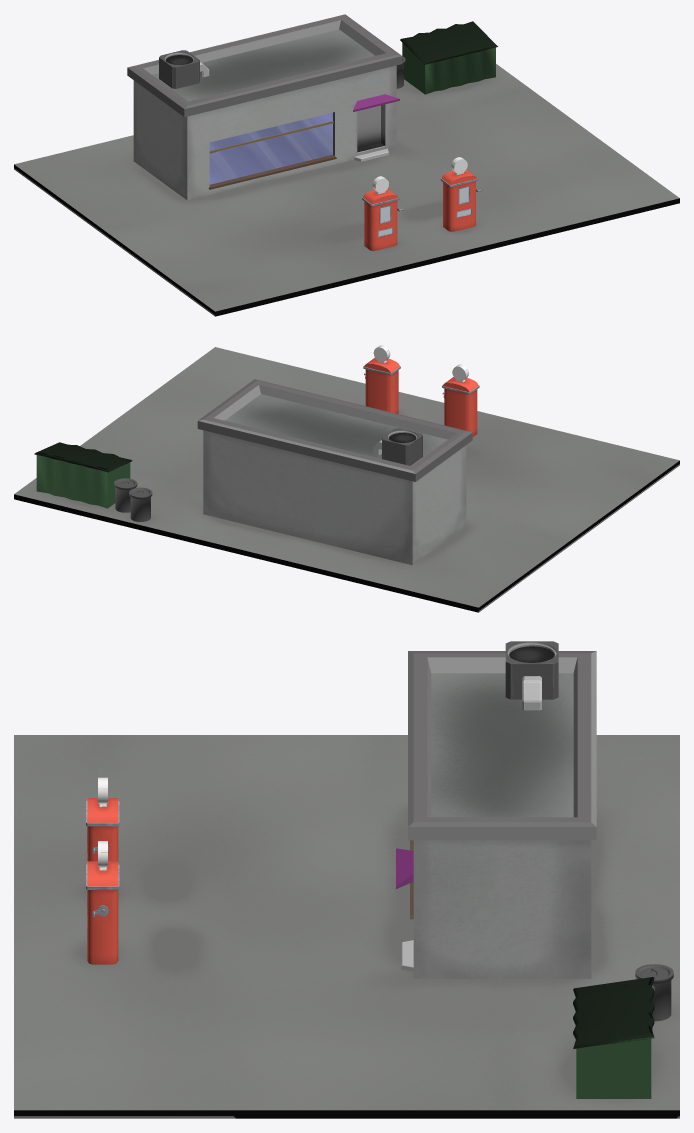
File: ManaStation.fbx
3 renders of one model, top to bottom at view 1: azimuth 30°, elevation 25°; view 2: azimuth 150°, elevation 25°; view 3: azimuth 270°, elevation 25°, orthographic. The views are drawn at different scales.
Visible parts, largest first — view 1: Building09Lot, Building09, Dumpster, Pump1.001, Pump1, AC; view 2: Building09Lot, Building09, Dumpster, Pump1.001, Pump1, AC, GarbageCan1.001, GarbageCan1; view 3: Building09Lot, Building09, Dumpster, Pump1, AC, Pump1.001, GarbageCan1.001.
Part boxes in pixels (x1,y1,x2,y2): Building09Lot: (14,64,679,316); Building09: (127,14,402,200); Dumpster: (400,21,497,94); Pump1.001: (362,176,403,250); Pump1: (440,157,482,231); AC: (159,50,209,88); Building09Lot: (14,347,679,612); Building09: (197,379,472,565); Dumpster: (34,442,132,508); Pump1.001: (442,364,479,436); Pump1: (363,345,400,413); AC: (372,428,422,465); GarbageCan1.001: (129,487,152,521); GarbageCan1: (114,478,137,512); Building09Lot: (14,735,679,1118); Building09: (396,651,596,978); Dumpster: (573,977,654,1098); Pump1: (86,841,119,964); AC: (505,641,558,710); Pump1.001: (86,777,119,863); GarbageCan1.001: (635,964,673,1021).
Bounding box in the file's own units: 2000 × 468 × 1500.
